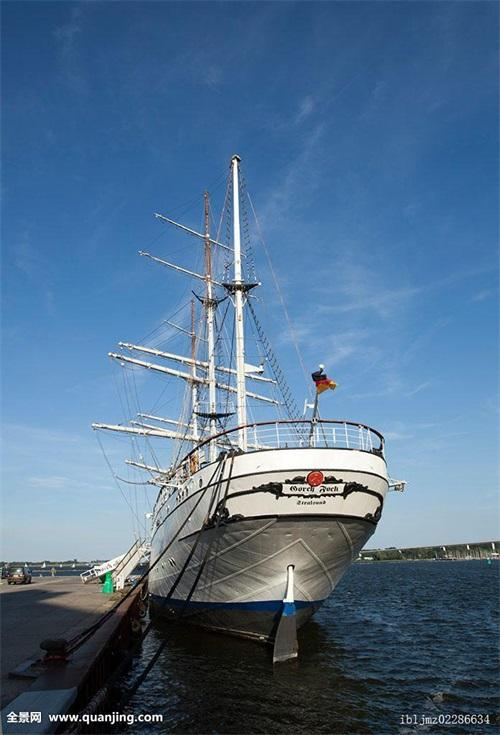Ship: (92, 154, 406, 637)
